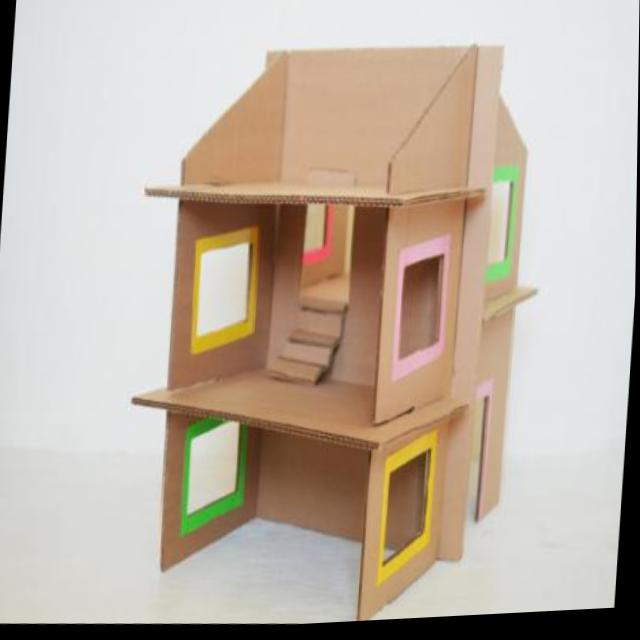box: (113, 5, 555, 635)
